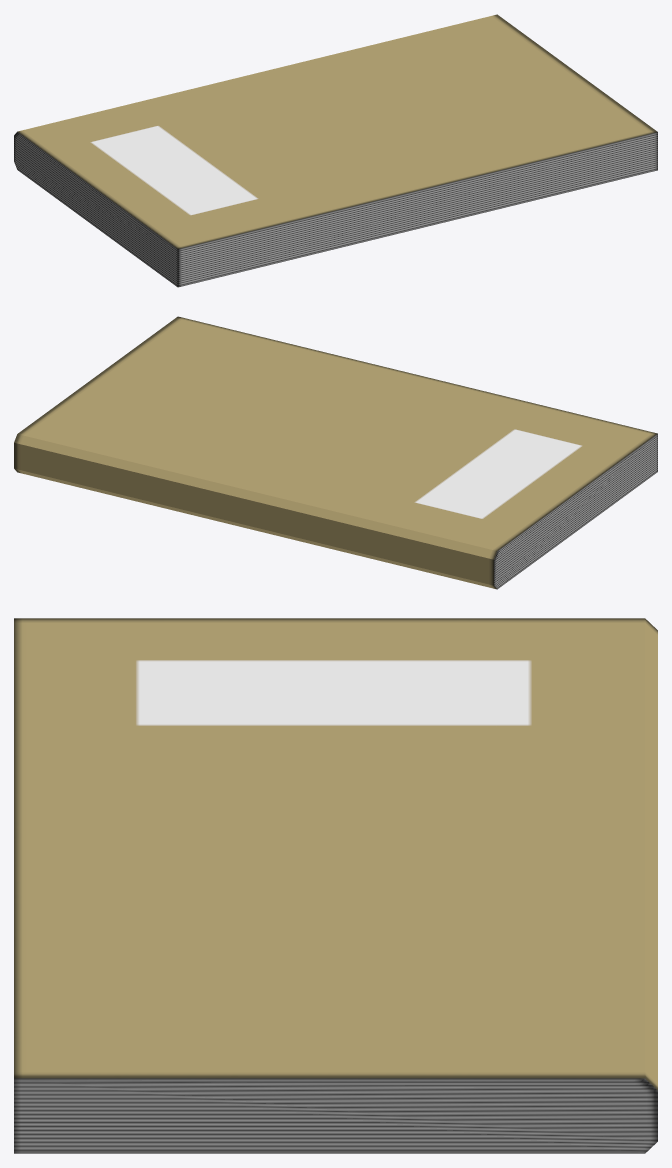
Rendered from book7.fbx.
3 renders of one model, top to bottom at view 1: azimuth 30°, elevation 25°; view 2: azimuth 150°, elevation 25°; view 3: azimuth 270°, elevation 25°, orthographic. The views are drawn at different scales.
Visible parts, largest first — view 1: polySurface1122; view 2: polySurface1122; view 3: polySurface1122.
Boxes of the visible parts, x1,y1,x2,y2 form: polySurface1122: [14, 14, 657, 287]; polySurface1122: [14, 316, 657, 589]; polySurface1122: [14, 618, 657, 1153].
Bounding box in the file's own units: 0.4212 × 0.0322 × 0.2491.
